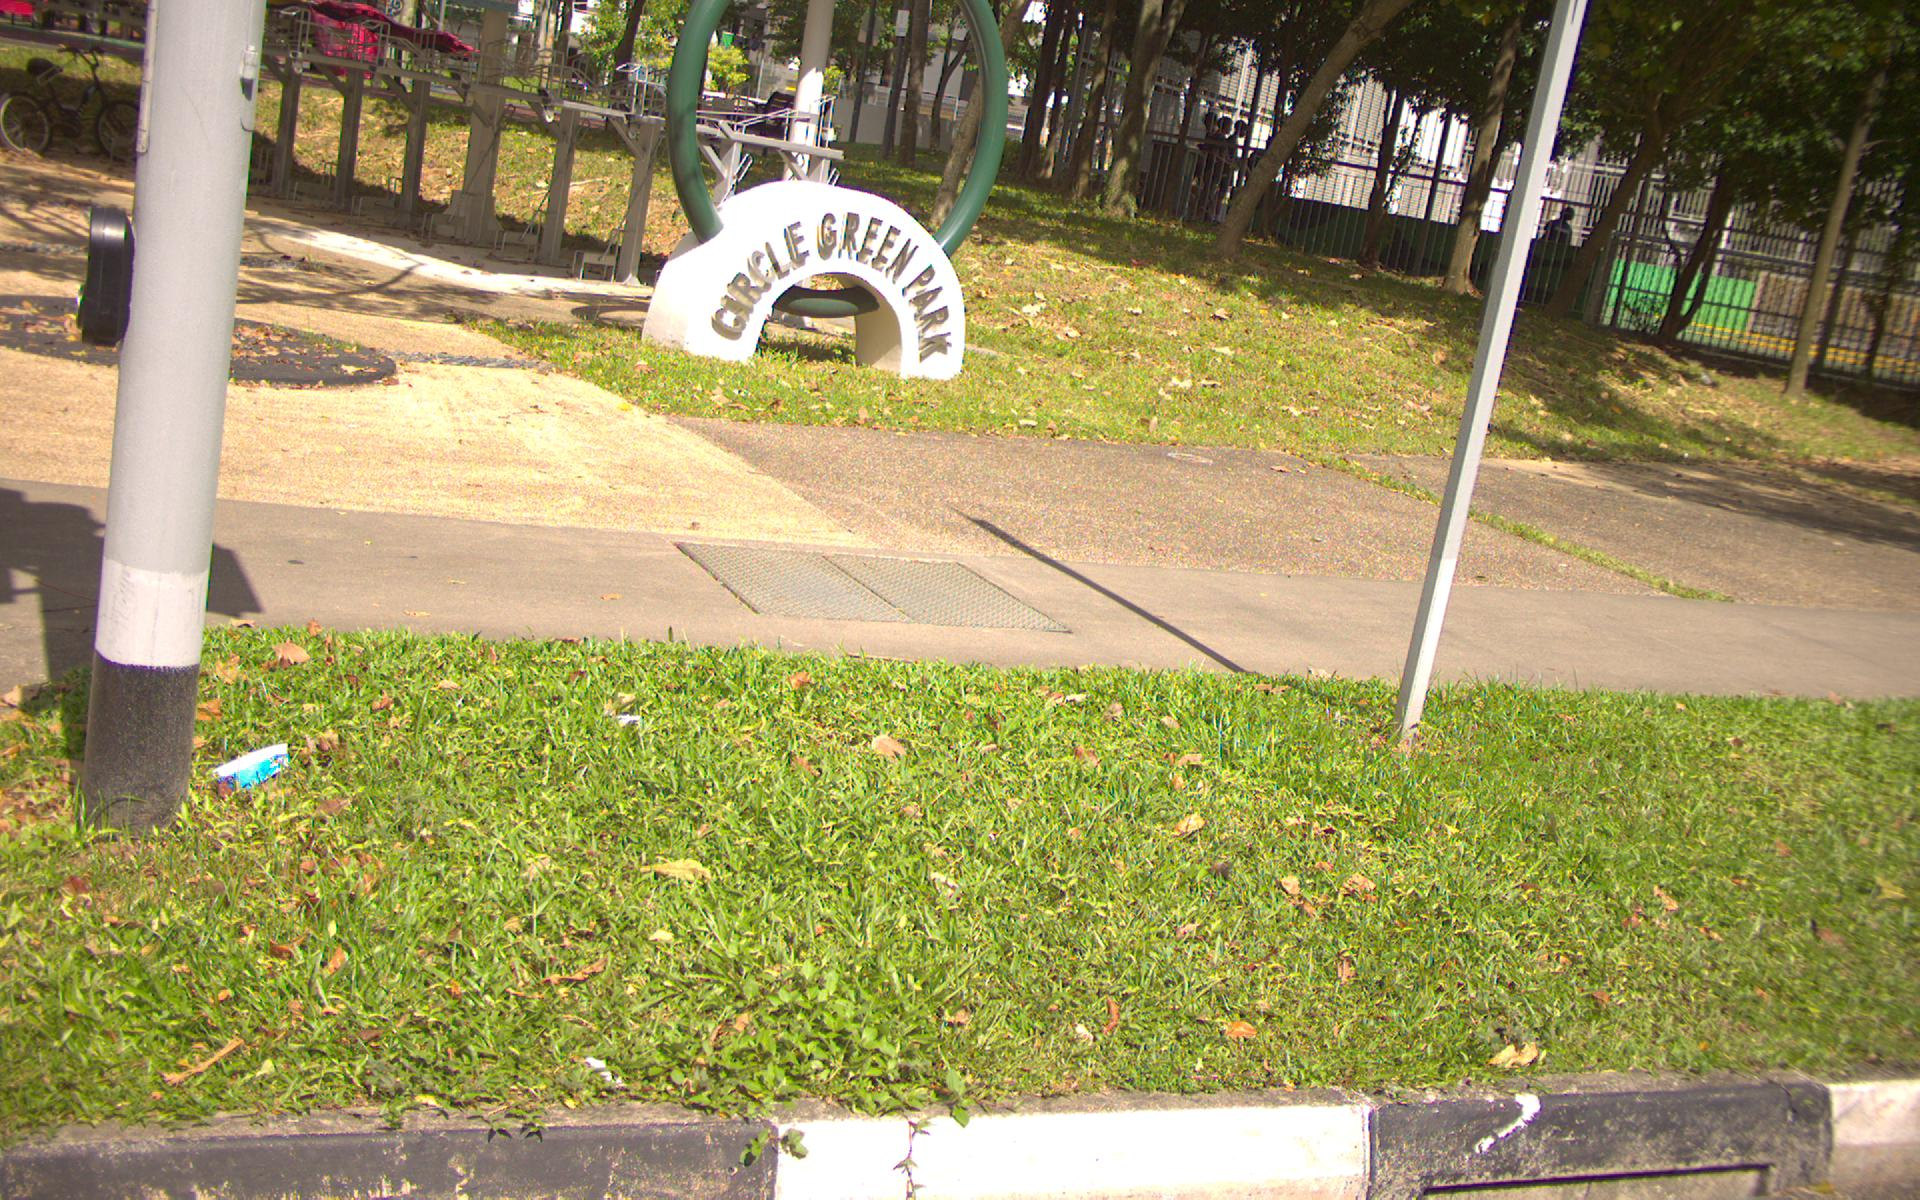pathway_low: (332, 458, 1920, 628)
road_turf_low: (21, 705, 1920, 1071), (988, 297, 1778, 440)
